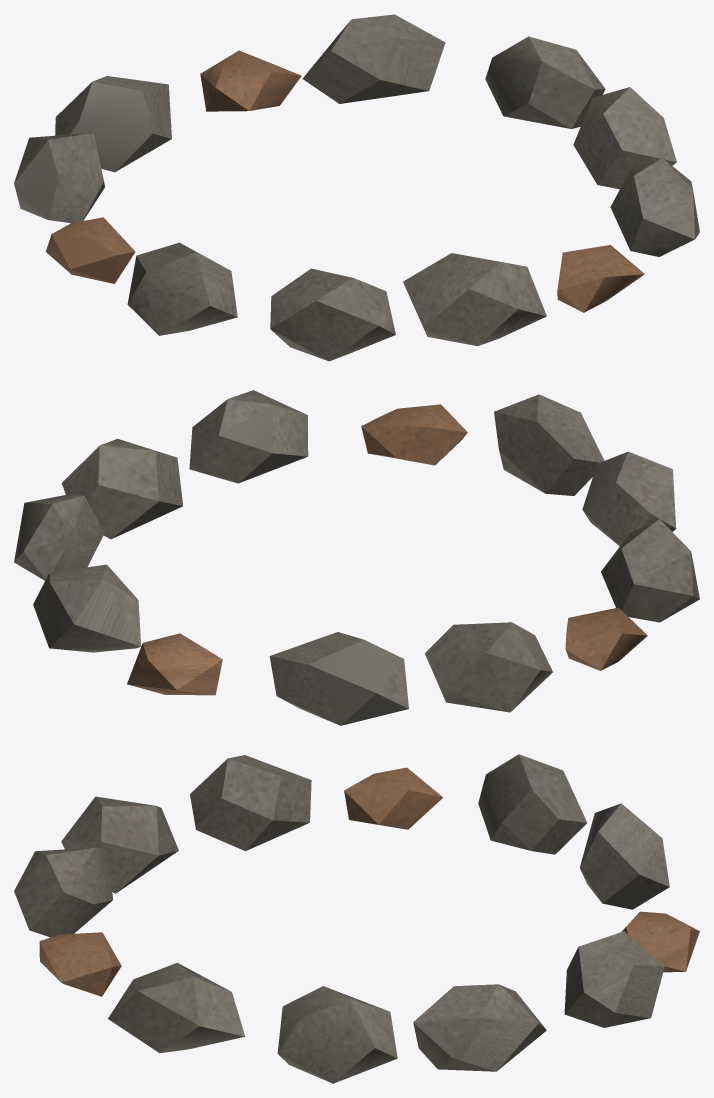
The model's file is hearth_open_top.glb.
The picture shows the model from 3 angles, top to bottom: view 1: azimuth 30°, elevation 25°; view 2: azimuth 150°, elevation 25°; view 3: azimuth 270°, elevation 25°; orthographic projection.
Visible parts, largest first — view 1: HEARTH_OPEN_TOP; view 2: HEARTH_OPEN_TOP; view 3: HEARTH_OPEN_TOP.
Part boxes in pixels (x1,y1,x2,y2): HEARTH_OPEN_TOP: [14, 14, 699, 361]; HEARTH_OPEN_TOP: [14, 390, 699, 725]; HEARTH_OPEN_TOP: [14, 754, 699, 1083].
Bounding box in the file's own units: 0.8588 × 0.1196 × 0.8898.
1 material, 1 textured.
